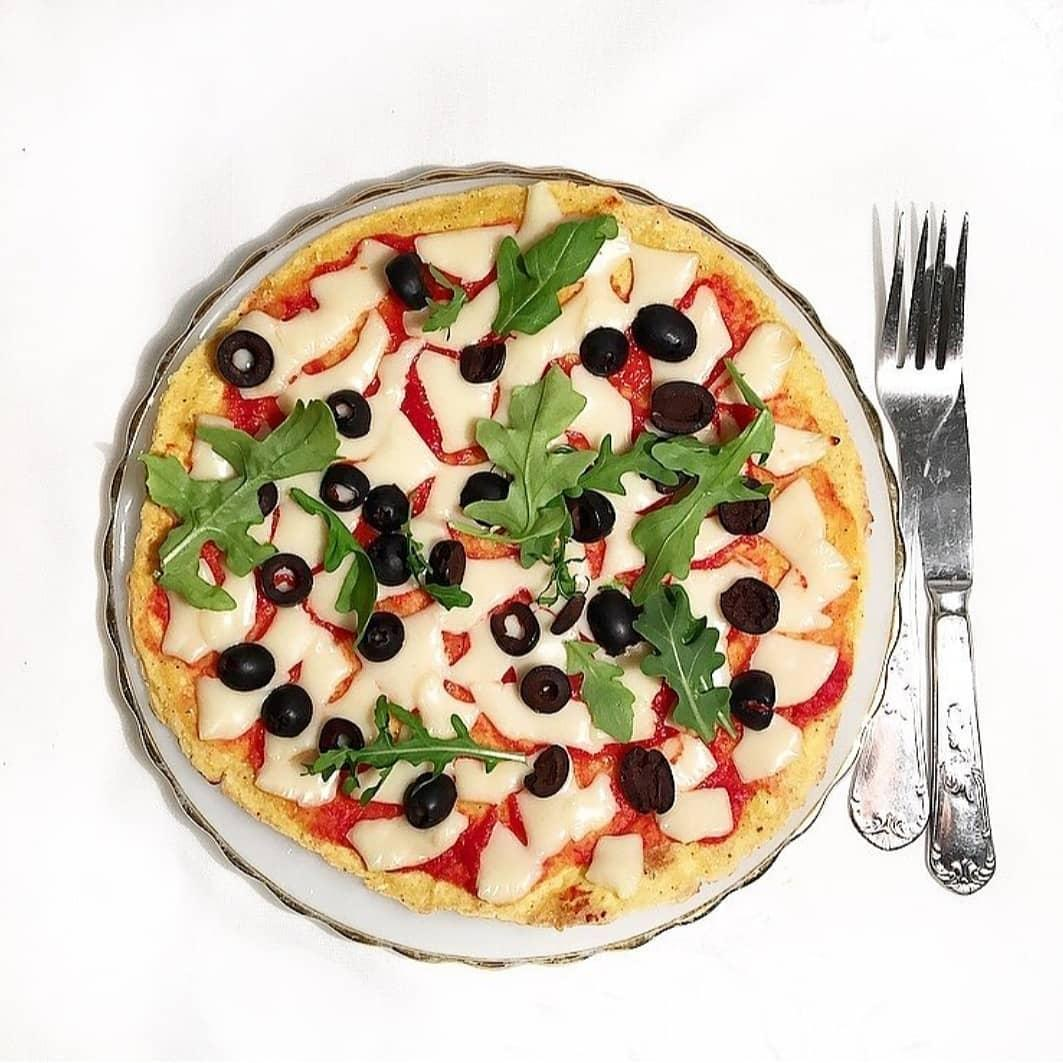Arugula: (141, 394, 338, 607), (627, 367, 787, 608), (461, 360, 591, 602), (615, 571, 733, 741), (300, 699, 530, 785), (480, 211, 620, 352), (284, 482, 375, 637), (554, 431, 708, 505), (562, 638, 638, 741), (399, 517, 473, 612)
Cheese: (257, 240, 392, 373), (521, 230, 628, 365), (358, 412, 465, 522), (329, 661, 483, 727), (770, 480, 837, 631), (286, 314, 392, 401), (354, 746, 523, 799), (480, 682, 612, 749), (346, 810, 474, 876), (256, 615, 353, 695), (155, 585, 253, 663), (746, 622, 840, 701), (523, 780, 619, 846), (402, 597, 493, 666), (412, 350, 485, 436), (255, 733, 335, 810), (722, 708, 805, 782), (475, 820, 546, 905), (463, 552, 588, 599), (408, 224, 518, 277), (730, 318, 795, 404), (189, 672, 270, 740), (676, 286, 730, 385), (572, 368, 633, 448), (659, 782, 742, 840), (182, 411, 241, 482), (649, 730, 722, 787), (628, 243, 692, 308), (590, 832, 644, 896), (310, 557, 358, 628), (769, 420, 824, 476), (515, 194, 560, 243)
Olives: (709, 567, 784, 642), (617, 739, 681, 822), (640, 377, 721, 442), (628, 295, 710, 359), (393, 768, 463, 834), (212, 325, 275, 393), (718, 472, 780, 541), (721, 666, 782, 736), (516, 657, 577, 726), (589, 581, 643, 657), (379, 246, 436, 317), (563, 475, 620, 546), (208, 638, 277, 693), (486, 599, 550, 658), (255, 551, 316, 611), (576, 322, 634, 382), (259, 679, 317, 738), (520, 744, 574, 807), (324, 384, 381, 442), (352, 610, 410, 667), (362, 535, 414, 592), (318, 716, 365, 779), (315, 461, 367, 515), (457, 332, 508, 387), (361, 483, 413, 534), (458, 467, 511, 515), (425, 535, 470, 591), (252, 478, 281, 518)
Pizza: (130, 177, 878, 937)
